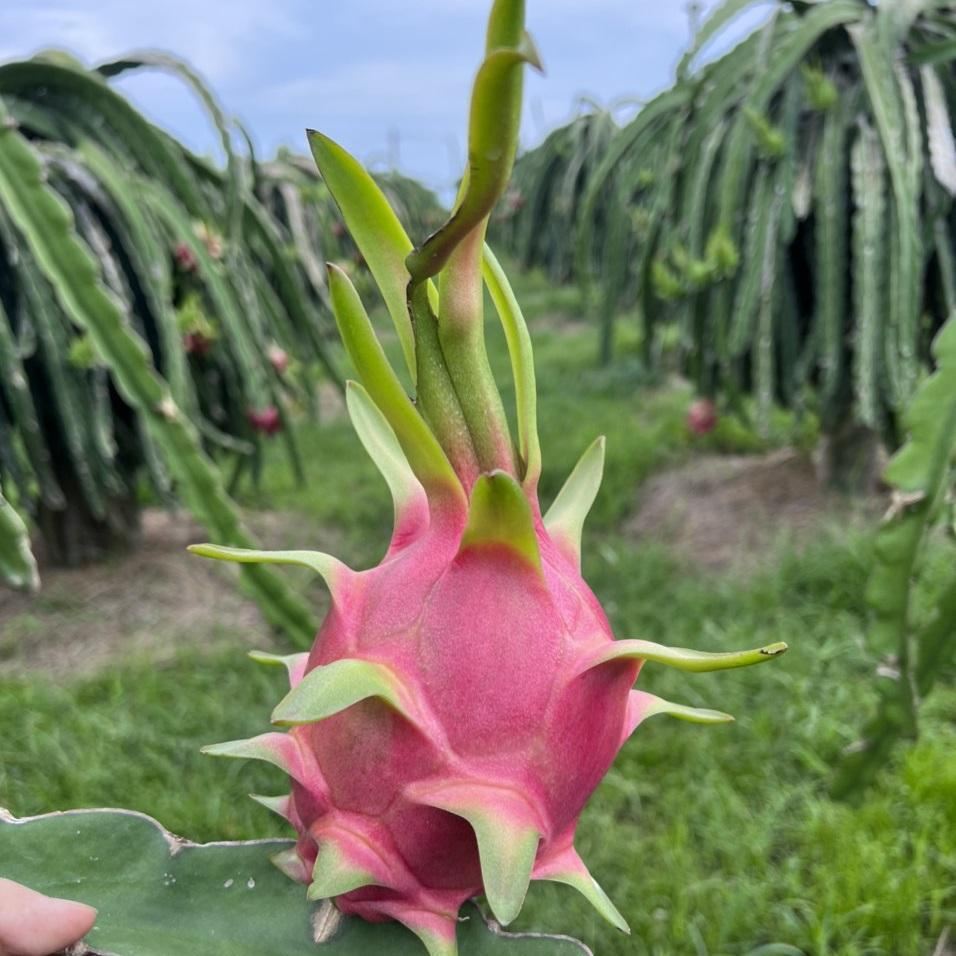dragon-fruit: (285, 515, 637, 930)
